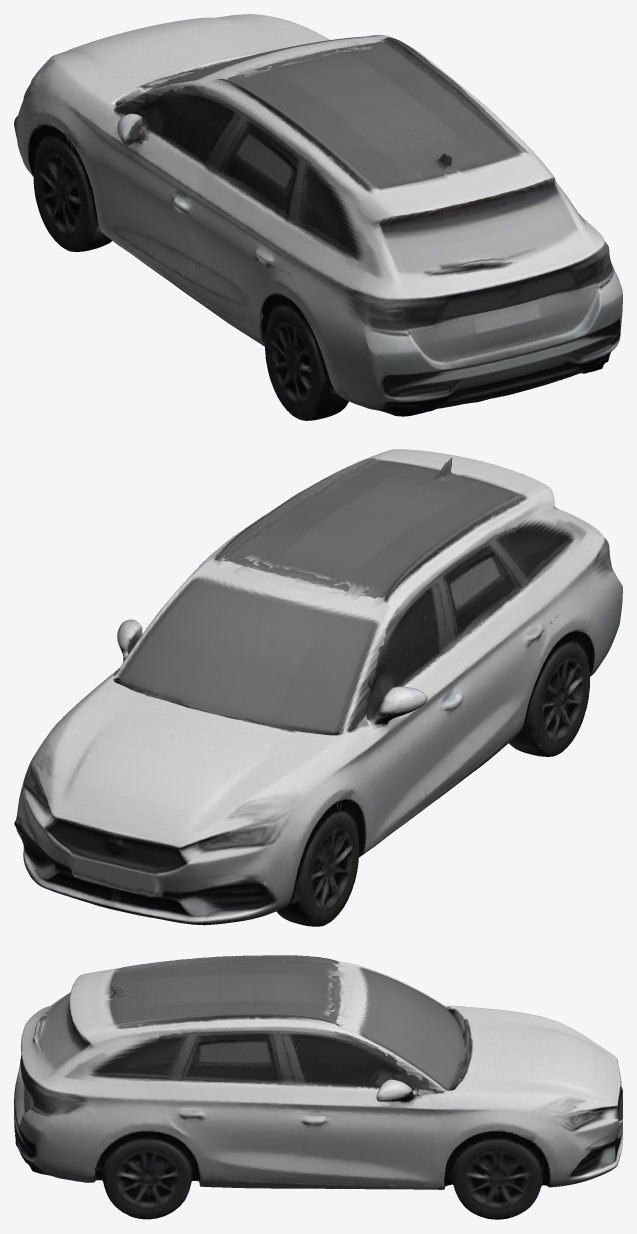
The model's file is police.glb.
3 views of the same model, one above another, from view 1: azimuth 30°, elevation 25°; view 2: azimuth 150°, elevation 25°; view 3: azimuth 270°, elevation 25° (orthographic). The views are drawn at different scales.
Visible parts, largest first — view 1: input; view 2: input; view 3: input.
Boxes of the visible parts, box(x1,y1,x2,y2) form: input: box(14, 14, 622, 420); input: box(14, 449, 622, 926); input: box(14, 955, 622, 1219).
Bounding box in the file's own units: 2.01 × 1.56 × 4.6.
Materials: 1 (1 with a texture image).
